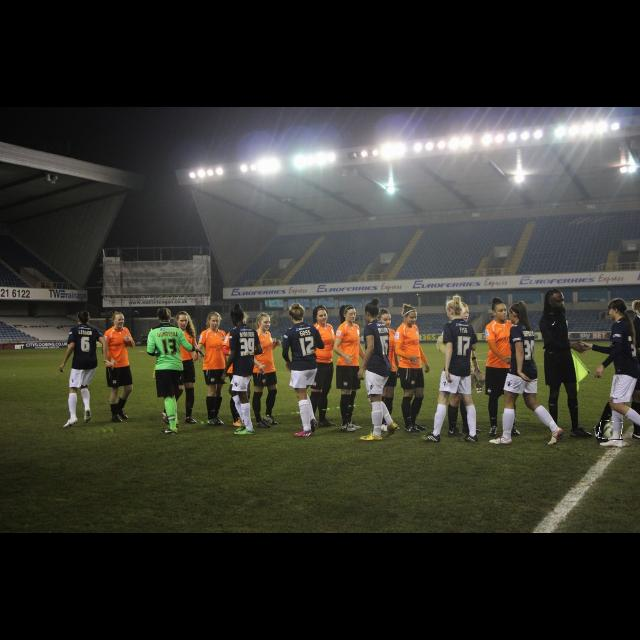Football: (599, 422, 623, 440)
